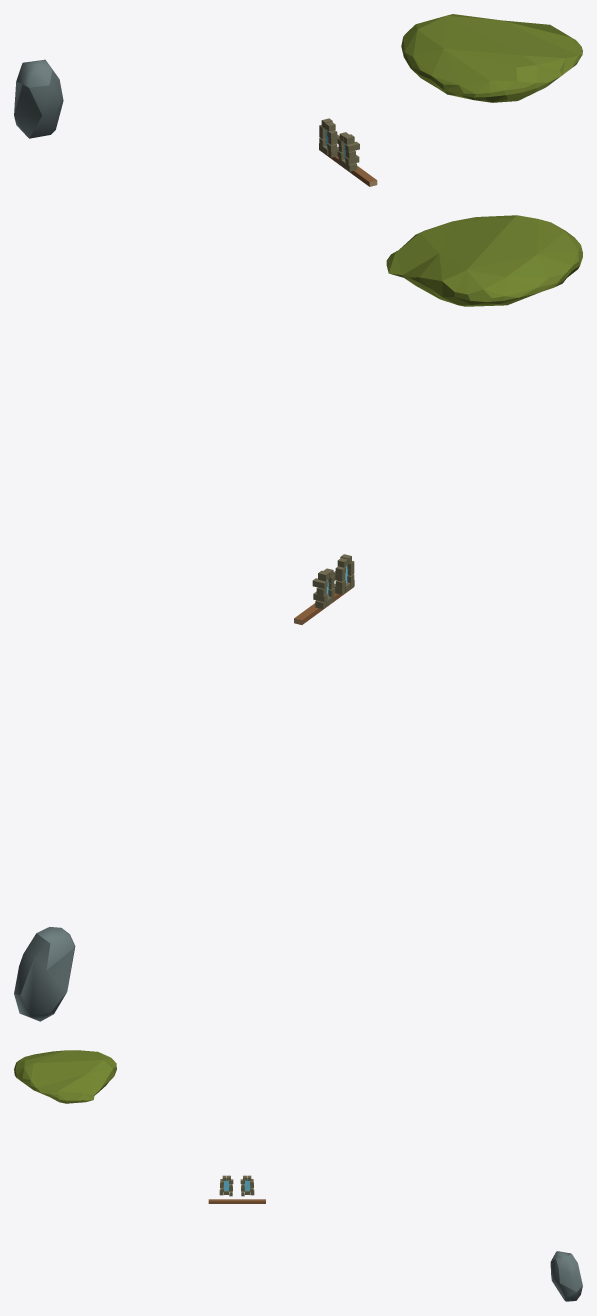
The picture shows the model from 3 angles, top to bottom: view 1: azimuth 30°, elevation 25°; view 2: azimuth 150°, elevation 25°; view 3: azimuth 270°, elevation 25°; orthographic projection. The views are drawn at different scales.
Parts seen in each view (by area): view 1: Box15034_green2_0, Box272_rock_0, Box15510_rock2_0, Box15508_brown_0; view 2: Box15034_green2_0, Box272_rock_0, Box15510_rock2_0; view 3: Box15034_green2_0, Box272_rock_0, Box15510_rock2_0.
Boxes of the visible parts, x1,y1,x2,y2 form: Box15034_green2_0: (401,14,582,102); Box272_rock_0: (14,59,63,138); Box15510_rock2_0: (319,118,359,171); Box15508_brown_0: (319,150,376,186); Box15034_green2_0: (386,215,582,306); Box272_rock_0: (14,927,75,1021); Box15510_rock2_0: (312,554,354,609); Box15034_green2_0: (14,1050,116,1103); Box272_rock_0: (550,1251,582,1301); Box15510_rock2_0: (219,1175,254,1196).
Bounding box in the file's own units: 963 × 2487 × 5319.
